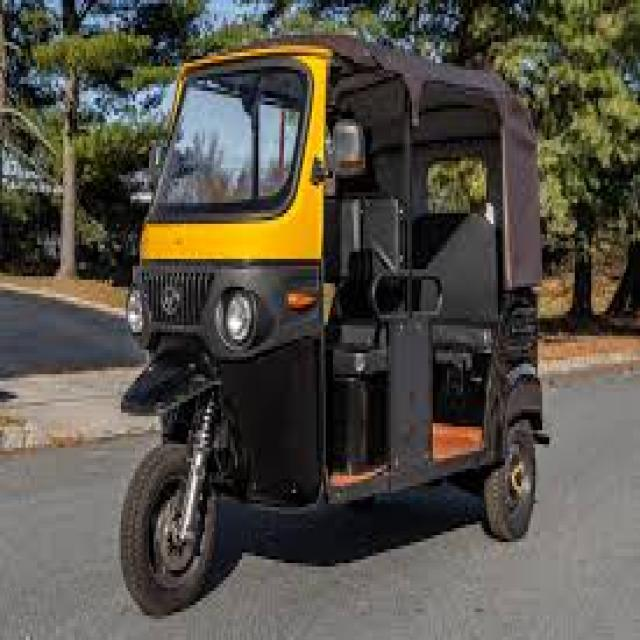tuktuk: (107, 6, 565, 640)
